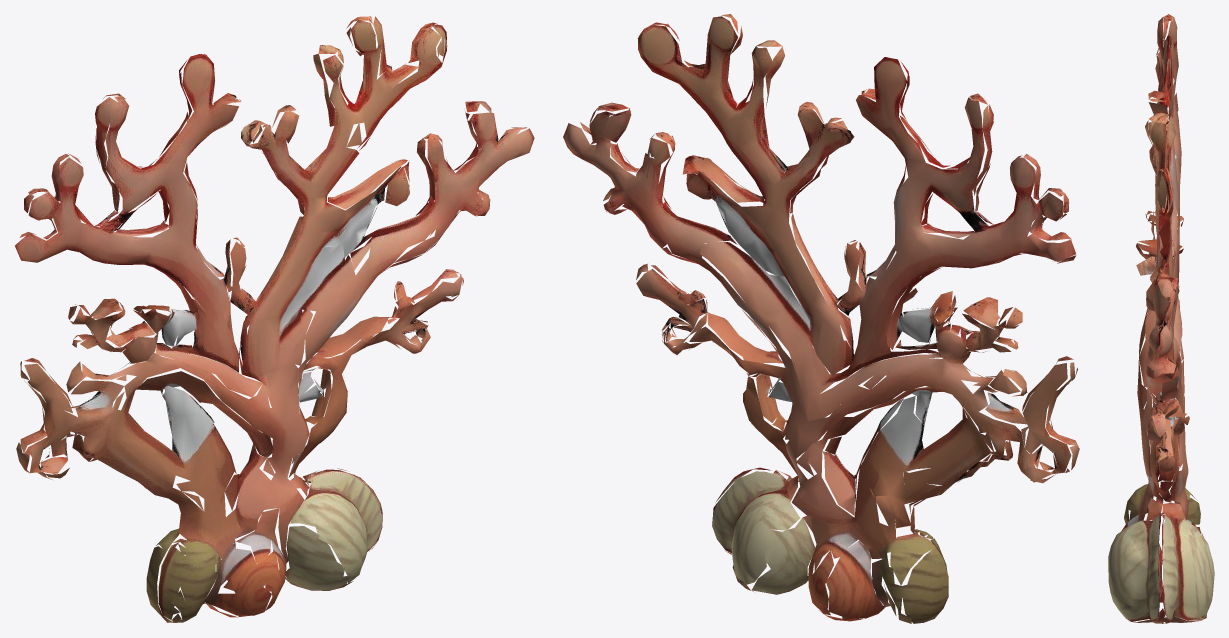
Rendered from mercan.glb.
3 renders of one model, left to right at view 1: azimuth 30°, elevation 25°; view 2: azimuth 150°, elevation 25°; view 3: azimuth 270°, elevation 25°, orthographic. The views are drawn at different scales.
Parts seen in each view (by area): view 1: geometry_0; view 2: geometry_0; view 3: geometry_0.
Boxes of the visible parts, x1,y1,x2,y2 form: geometry_0: (14, 16, 534, 622); geometry_0: (563, 14, 1079, 623); geometry_0: (1108, 14, 1214, 623).
Bounding box in the file's own units: 0.9589 × 1 × 0.1794.
Materials: 1 (1 with a texture image).
